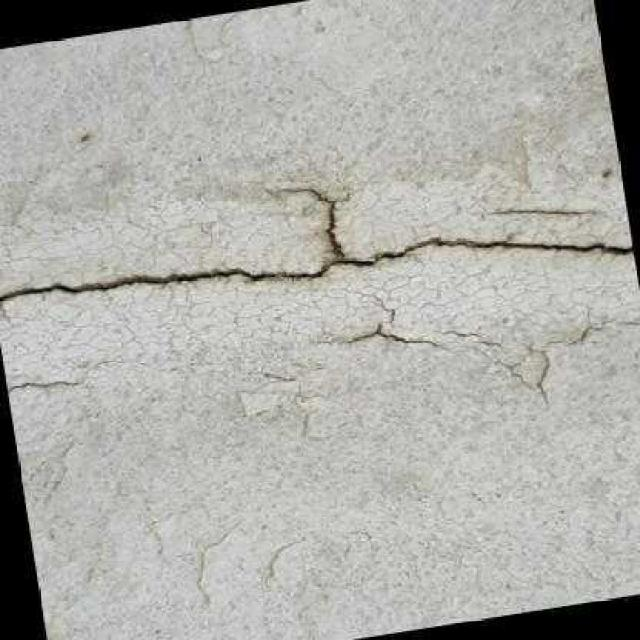D00: (0, 237, 633, 298), (275, 184, 347, 254)
